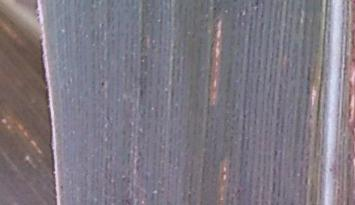tarspot: (100, 80, 105, 88), (59, 183, 62, 190)
